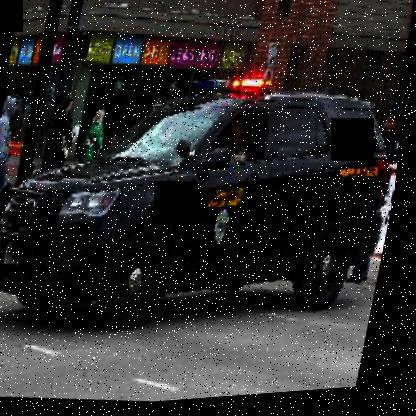emergency: (0, 51, 409, 365)
